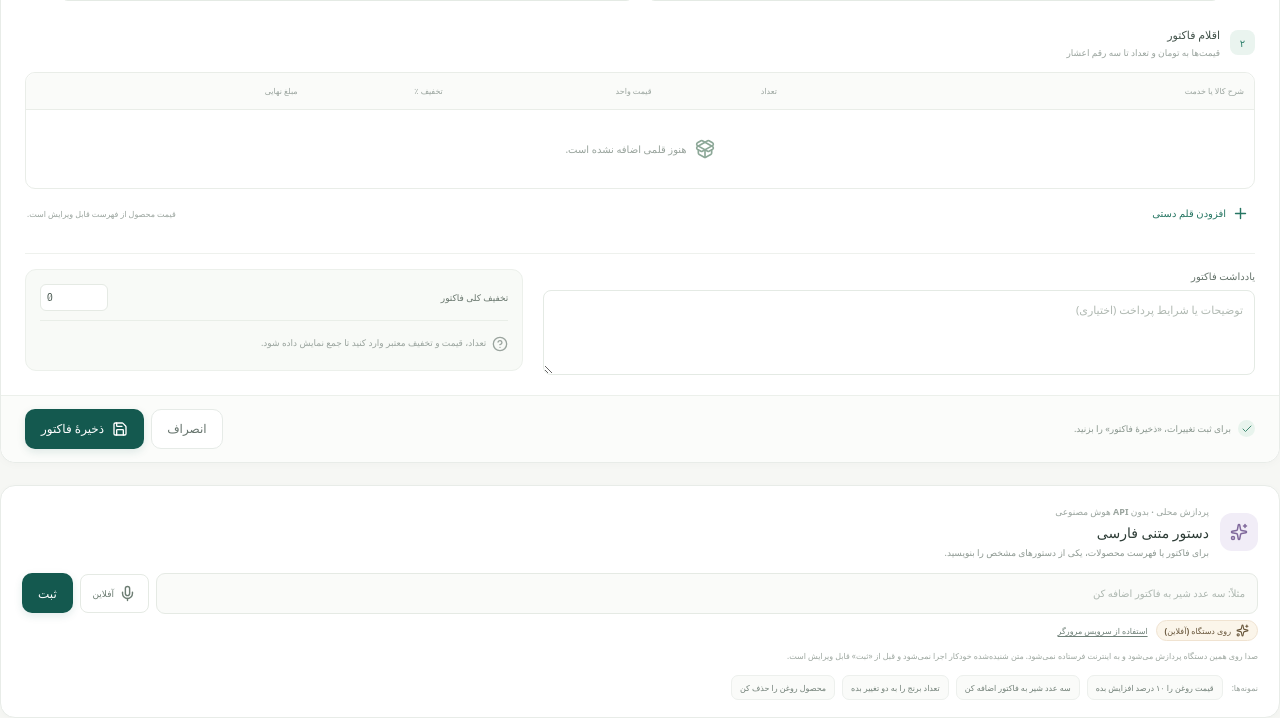
Test: اتصال موتور آفلاین شنوا به فرم فاکتور › اگر بازنویسی عدد معنای فرمان را عوض کند، متن خام شنوا بدون تغییر می‌ماند
(page scrolled)
Click the button "آفلاین". click: (114, 593)
box: [80,574,149,613]
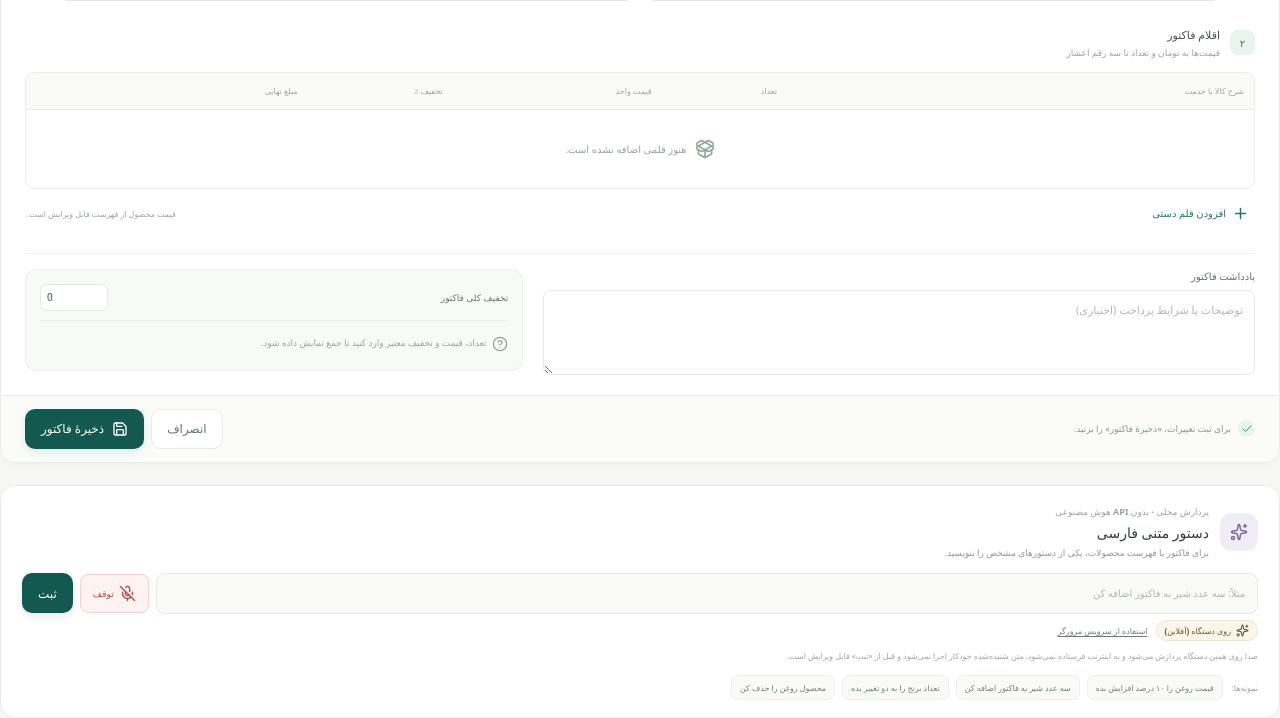
Click the button "توقف". click: (114, 593)
box: [80,574,149,613]
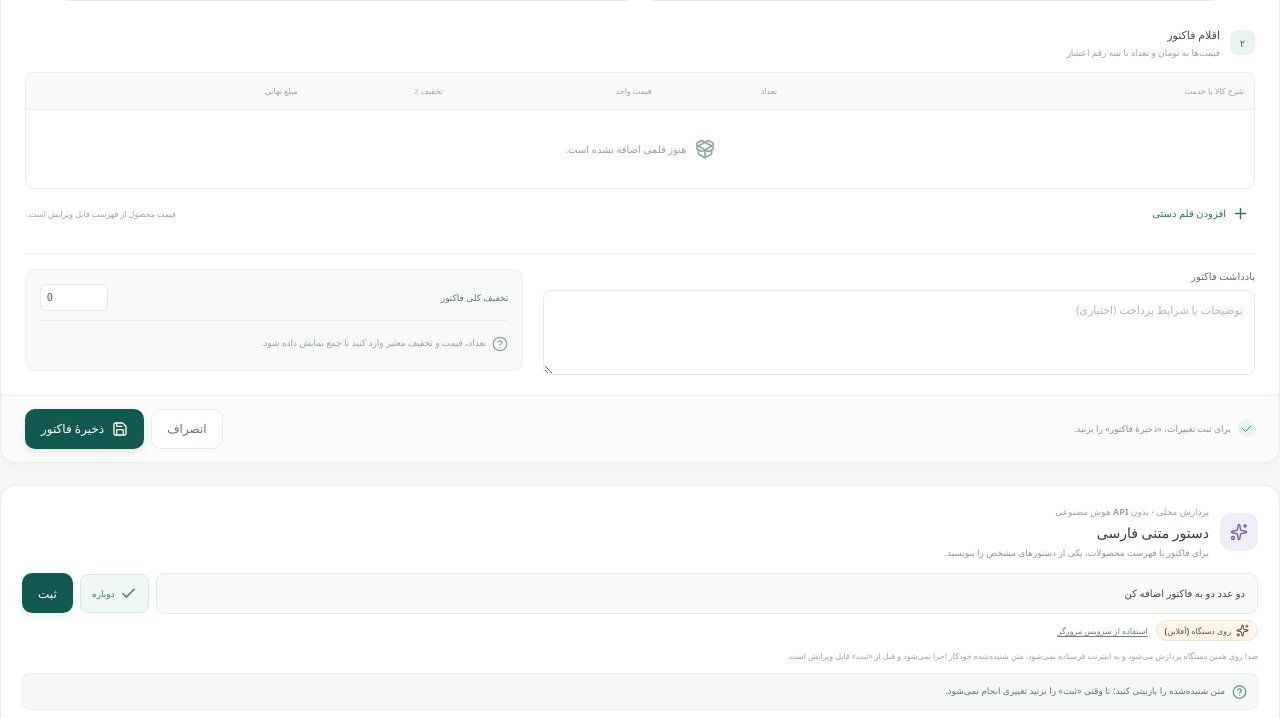
Now the field named "نوشتن دستور فارسی" holds "دو عدد دو به فاکتور اضافه کن", box [156,573,1258,614]
